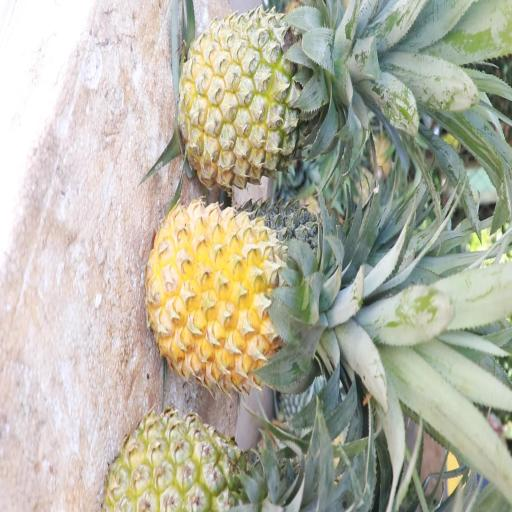------------------------------: (184, 10, 338, 188), (108, 407, 282, 512)
Pineapple - v8 v1: (150, 203, 325, 383)
